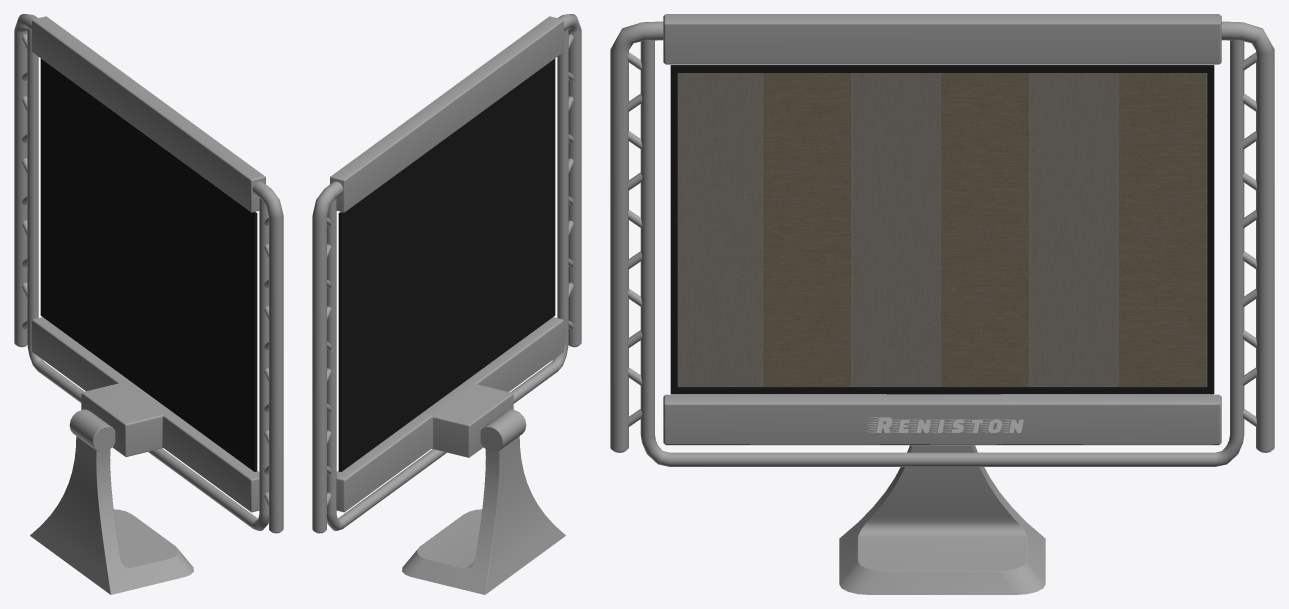
Rendered from Scifi_screen.fbx.
The picture shows the model from 3 angles, left to right: view 1: azimuth 30°, elevation 25°; view 2: azimuth 150°, elevation 25°; view 3: azimuth 270°, elevation 25°; orthographic projection. The views are drawn at different scales.
Parts seen in each view (by area): view 1: Screen_Screen, Screen_Frame, monitor stand, monitor holder; view 2: Screen_Screen, Screen_Frame, monitor stand, monitor holder; view 3: Screen_Screen, Screen_Frame, monitor stand, Reniston no bg.
Boxes of the visible parts, x1,y1,x2,y2 form: Screen_Screen: (40,58,257,471); Screen_Frame: (14,14,283,533); monitor stand: (30,436,193,594); monitor holder: (69,409,115,452); Screen_Screen: (338,58,555,471); Screen_Frame: (312,14,581,533); monitor stand: (402,436,565,594); monitor holder: (480,409,526,452); Screen_Screen: (670,65,1214,394); Screen_Frame: (610,14,1274,466); monitor stand: (839,445,1045,594); Reniston no bg: (866,417,1023,432).
Bounding box in the file's own units: 57.12 × 268 × 283.
